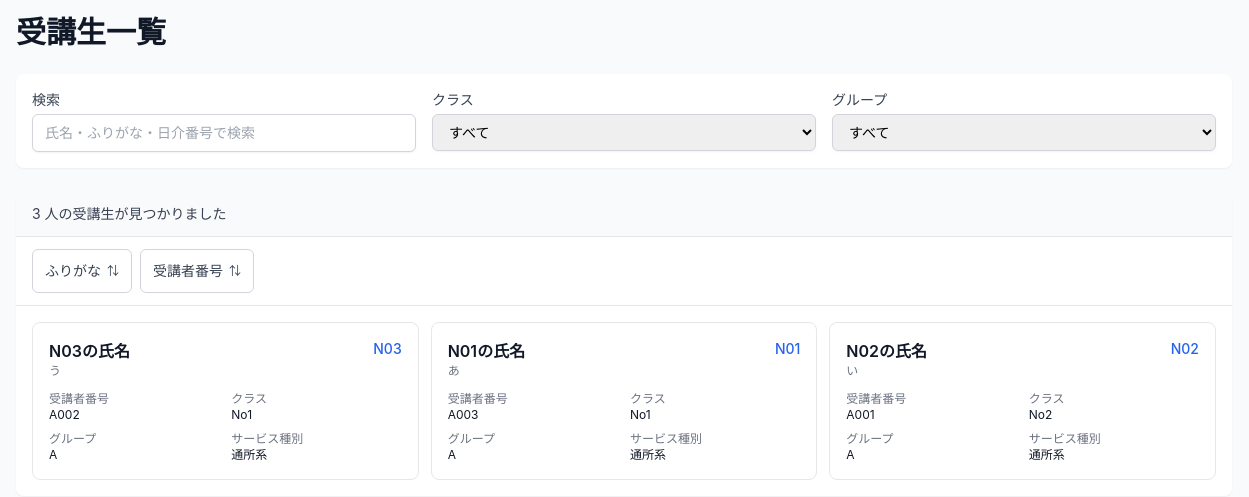
Test case: StudentsView (responsive table / cards) › 画面幅の変化（回転・リサイズ） › should switch from cards to the table across 1280px and keep filter and sort state
Select "No1" in the dropdown with id "class-filter" at (624, 132), box [432, 114, 816, 151]
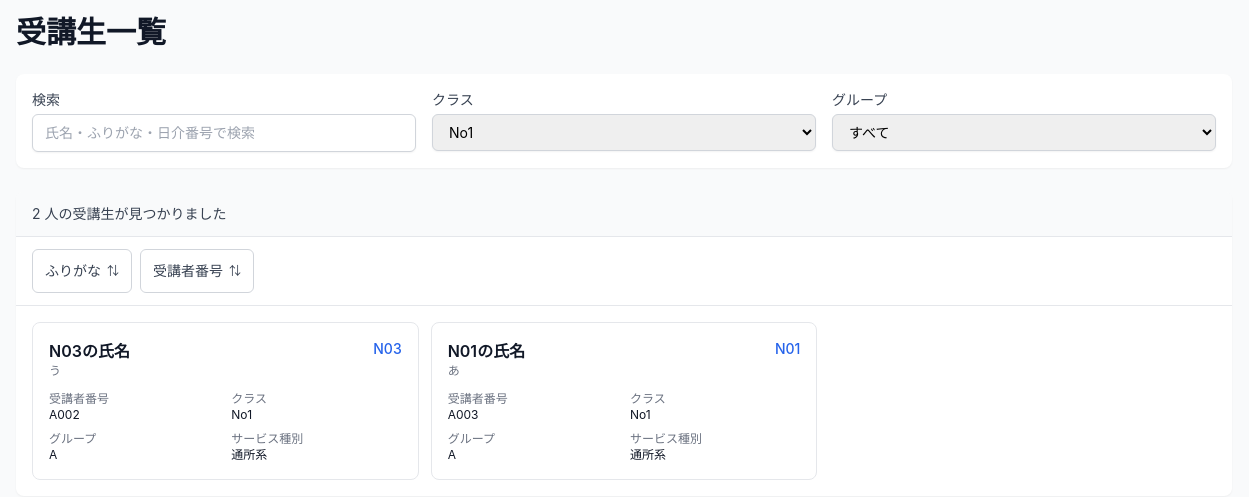
Click the button "ふりがな ⇅" at (82, 271), box [32, 249, 132, 293]
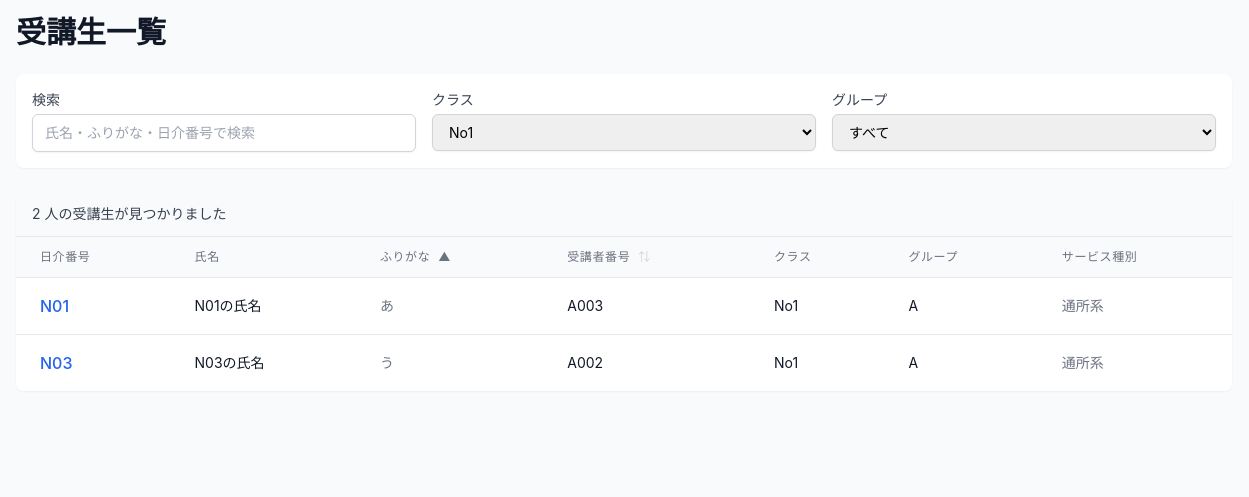
Result: the table is shown at [16, 237, 1232, 391]
